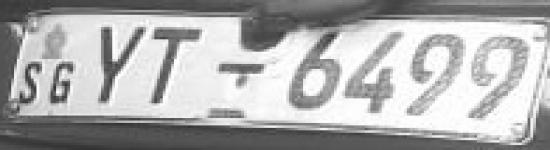-: (215, 58, 268, 80)
4: (346, 25, 405, 117)
6: (283, 25, 344, 114)
9: (405, 24, 467, 120), (469, 32, 532, 125)
G: (47, 59, 84, 107)
S: (15, 60, 45, 106)
T: (149, 25, 208, 107)
Y: (92, 22, 146, 108)
